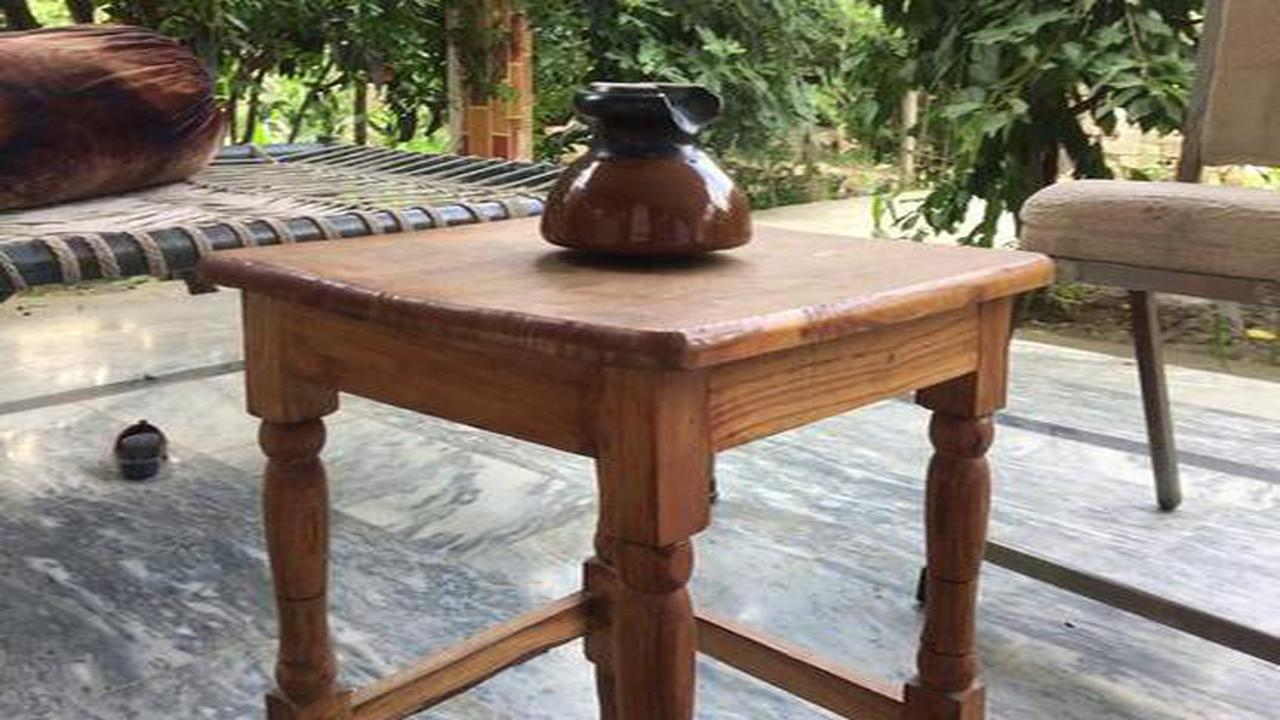insulator_pin: (521, 66, 770, 269)
